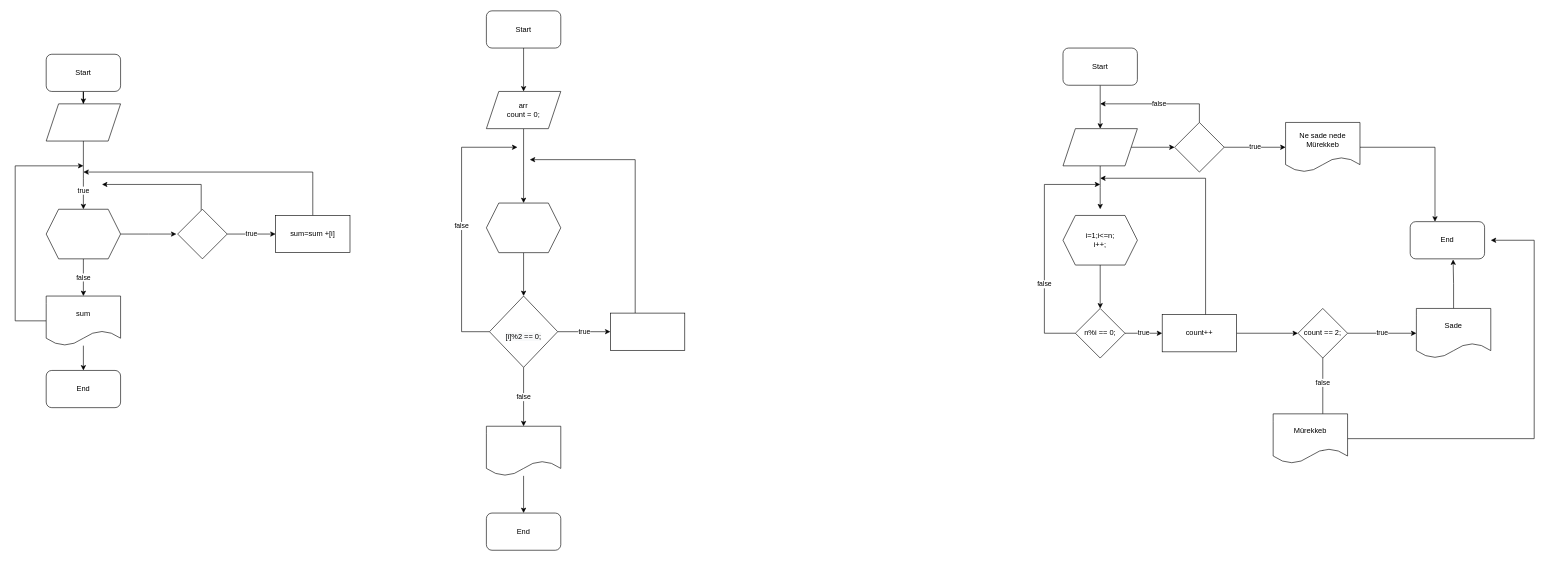
Some shapes in this 1550 by 561 pixel diagram are drawn without their labels. The box of each missing label's shape, as (x1, y1, x2, y2) in pixels:
[i]%2==1;: (177, 209, 227, 259)
arr sum =0;: (46, 103, 121, 141)
count: (486, 426, 561, 476)
cuont++: (610, 312, 685, 350)
n == 1;: (1174, 122, 1224, 172)
n count = 0;: (1062, 128, 1137, 166)
var i=0; i<arr.length i++;: (486, 202, 561, 253)
var i=0; i<arr.length; i++;: (46, 209, 121, 259)
